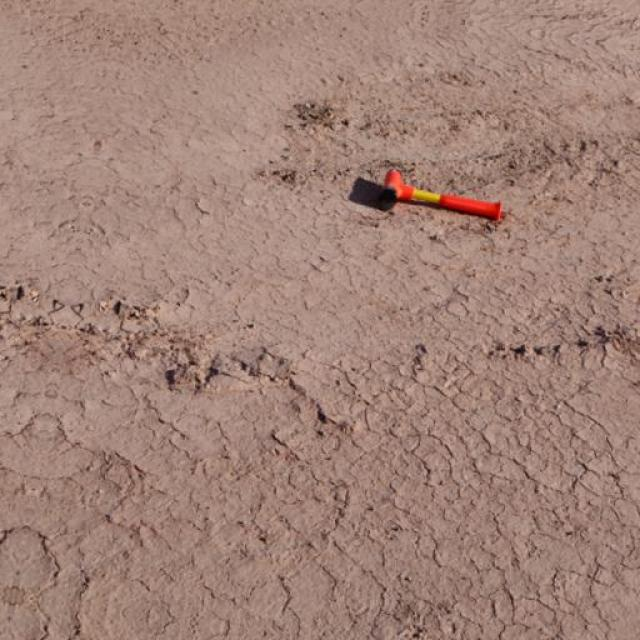mallet: (378, 168, 503, 222)
